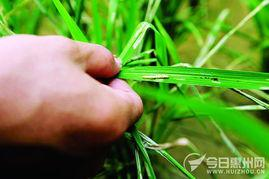pest: (142, 75, 170, 79)
